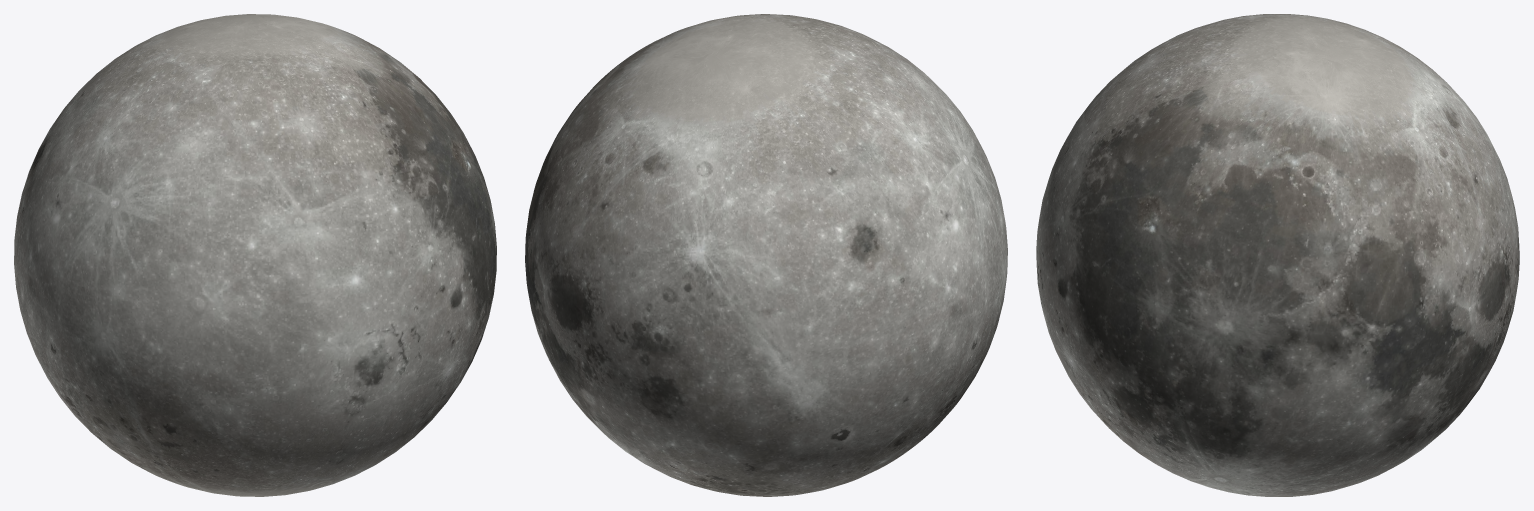
Rendered from moon.glb.
The picture shows the model from 3 angles, left to right: view 1: azimuth 30°, elevation 25°; view 2: azimuth 150°, elevation 25°; view 3: azimuth 270°, elevation 25°; orthographic projection.
Parts seen in each view (by area): view 1: Sphere; view 2: Sphere; view 3: Sphere.
Part boxes in pixels (left/top/right/bottom): Sphere: left=14, top=14, right=496, bottom=496; Sphere: left=525, top=14, right=1007, bottom=496; Sphere: left=1036, top=14, right=1519, bottom=496.
Bounding box in the file's own units: 2 × 2 × 2.
1 material, 1 textured.
